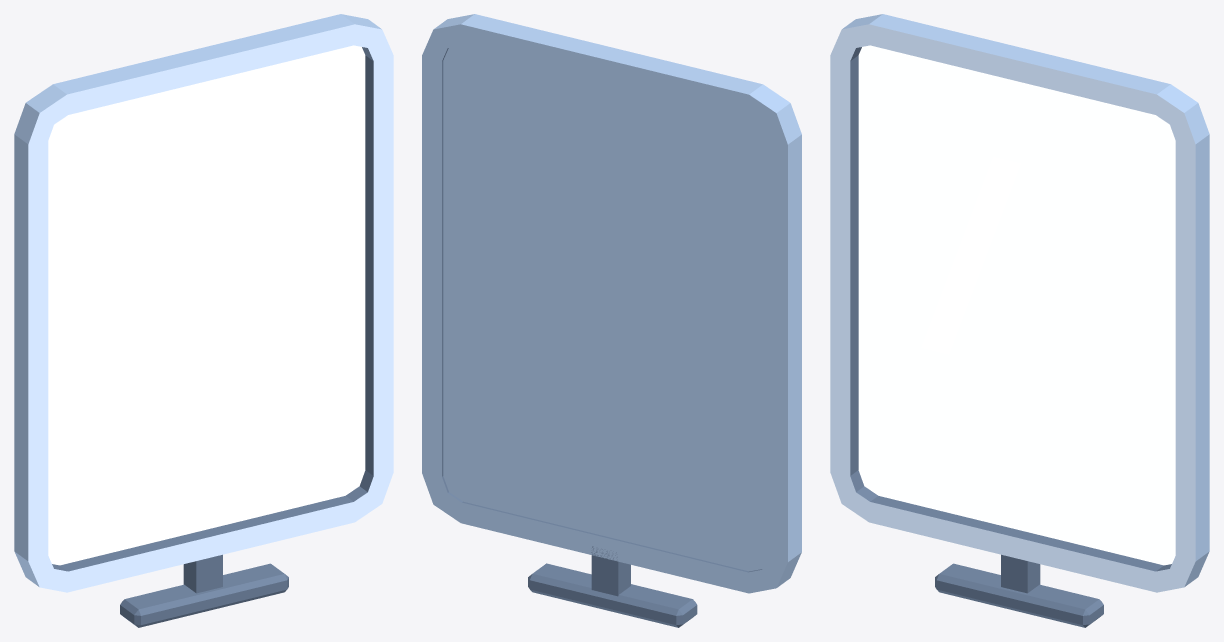
File: turn-mirror-small.glb
3 views of the same model, side by side, from view 1: azimuth 30°, elevation 25°; view 2: azimuth 150°, elevation 25°; view 3: azimuth 330°, elevation 25° (orthographic).
Parts seen in each view (by area): view 1: turn-mirror-small; view 2: turn-mirror-small; view 3: turn-mirror-small.
Boxes of the visible parts, <box> form: turn-mirror-small: <box>14,14,393,627</box>; turn-mirror-small: <box>422,14,801,627</box>; turn-mirror-small: <box>830,14,1209,627</box>.
Size of the model in its own units: 3.3 by 4.75 by 0.3.
